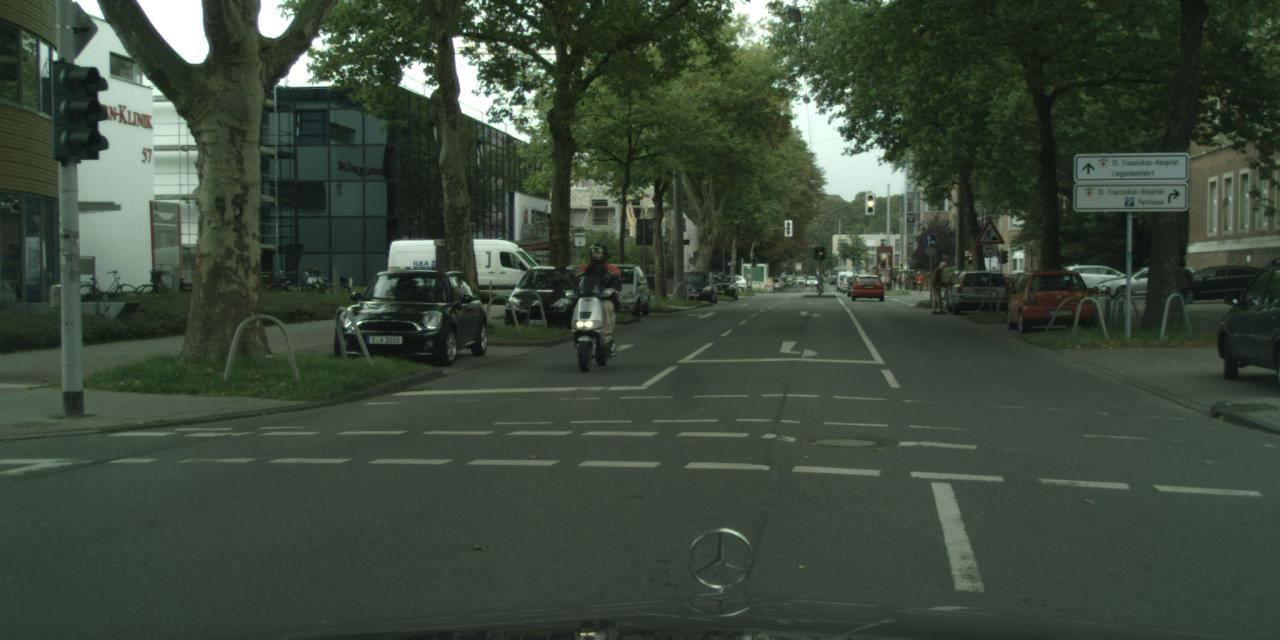ped: (574, 242, 618, 350), (930, 260, 951, 312), (987, 266, 1000, 298), (915, 270, 923, 290), (897, 275, 902, 289), (892, 274, 896, 288), (912, 275, 916, 289), (904, 276, 908, 288)
